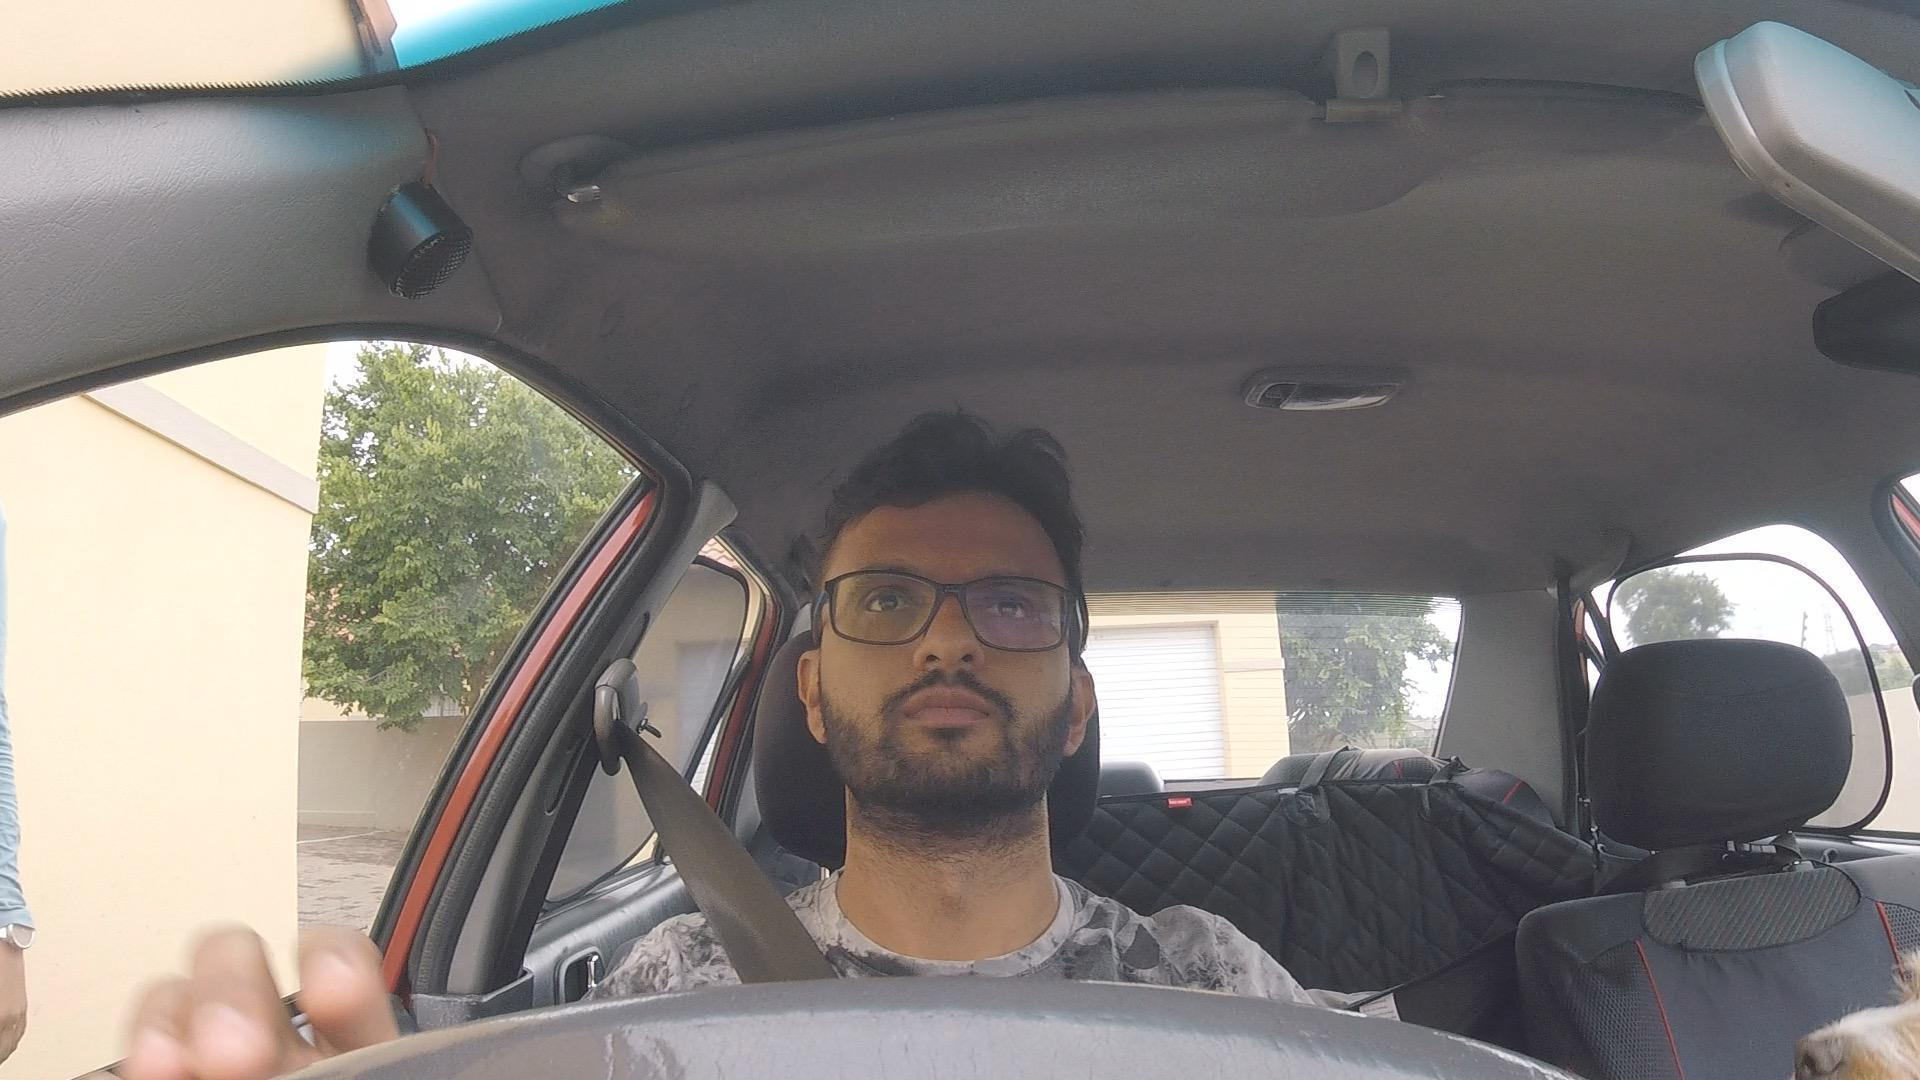SafeDriving: (795, 411, 1100, 825)
